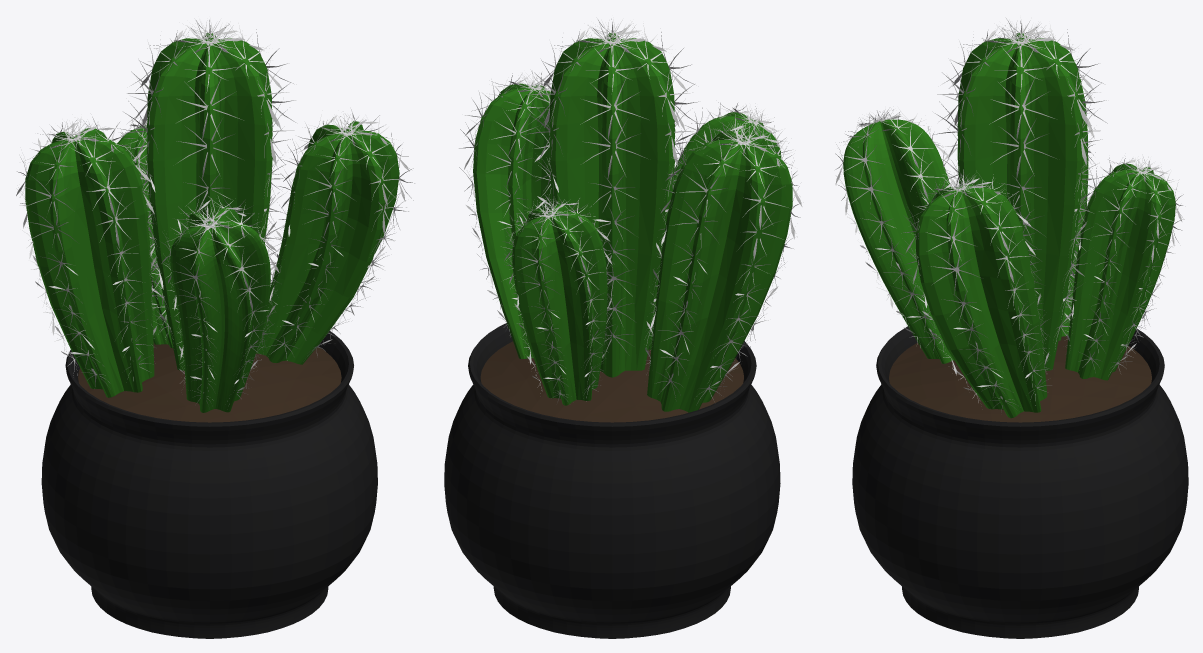
Rendered from cactus.obj.
3 views of the same model, side by side, from view 1: azimuth 30°, elevation 25°; view 2: azimuth 150°, elevation 25°; view 3: azimuth 270°, elevation 25° (orthographic).
Parts seen in each view (by area): view 1: Circle.016_Circle.031, Circle.019_Circle.035, Circle.014_Circle.009, Circle.018_Circle.033, Circle.017_Circle.034, forest-floor-458775_1280, Circle.005, Circle.003, Circle.001, Circle.002, Circle.021_Circle.036; view 2: Circle.016_Circle.031, Circle.014_Circle.009, Circle.019_Circle.035, Circle.021_Circle.036, Circle.018_Circle.033, forest-floor-458775_1280, Circle.005, Circle.003, Circle.000, Circle.001, Circle.017_Circle.034, Circle.002; view 3: Circle.016_Circle.031, Circle.014_Circle.009, Circle.018_Circle.033, Circle.021_Circle.036, Circle.017_Circle.034, forest-floor-458775_1280, Circle.005, Circle.001, Circle.000, Circle.002, Circle.019_Circle.035.
Part boxes in pixels (box(x1,y1,x2,y2)): Circle.016_Circle.031: box(41, 331, 377, 638); Circle.019_Circle.035: box(25, 128, 154, 397); Circle.014_Circle.009: box(147, 33, 272, 370); Circle.018_Circle.033: box(256, 121, 399, 364); Circle.017_Circle.034: box(170, 206, 270, 412); forest-floor-458775_1280: box(78, 342, 341, 422); Circle.005: box(121, 18, 295, 340); Circle.003: box(16, 117, 158, 388); Circle.001: box(269, 109, 414, 360); Circle.002: box(161, 194, 279, 404); Circle.021_Circle.036: box(117, 125, 172, 348); Circle.016_Circle.031: box(444, 323, 780, 638); Circle.014_Circle.009: box(549, 33, 675, 377); Circle.019_Circle.035: box(647, 131, 792, 412); Circle.021_Circle.036: box(512, 204, 607, 405); Circle.018_Circle.033: box(473, 83, 552, 358); forest-floor-458775_1280: box(480, 341, 743, 422); Circle.005: box(525, 17, 698, 355); Circle.003: box(645, 121, 802, 403); Circle.000: box(503, 196, 614, 402); Circle.001: box(459, 71, 552, 337); Circle.017_Circle.034: box(648, 112, 781, 349); Circle.002: box(675, 102, 791, 167); Circle.016_Circle.031: box(852, 326, 1188, 638); Circle.014_Circle.009: box(957, 33, 1083, 370); Circle.018_Circle.033: box(916, 184, 1047, 418); Circle.021_Circle.036: box(1065, 163, 1175, 380); Circle.017_Circle.034: box(843, 119, 953, 363); forest-floor-458775_1280: box(889, 336, 1151, 422); Circle.005: box(934, 17, 1107, 348); Circle.001: box(901, 169, 1052, 412); Circle.000: box(1064, 155, 1184, 374); Circle.002: box(835, 109, 956, 352); Circle.019_Circle.035: box(1058, 77, 1088, 340).
Size of the model in its own units: 14.79 by 22.46 by 12.82.
